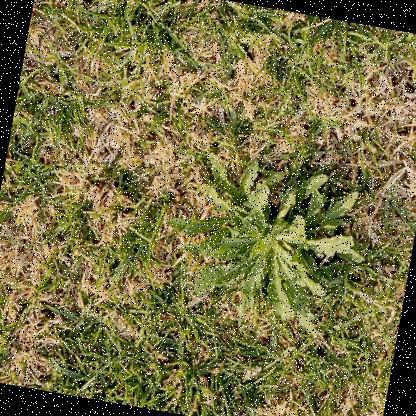Weeds: (145, 138, 379, 345)
